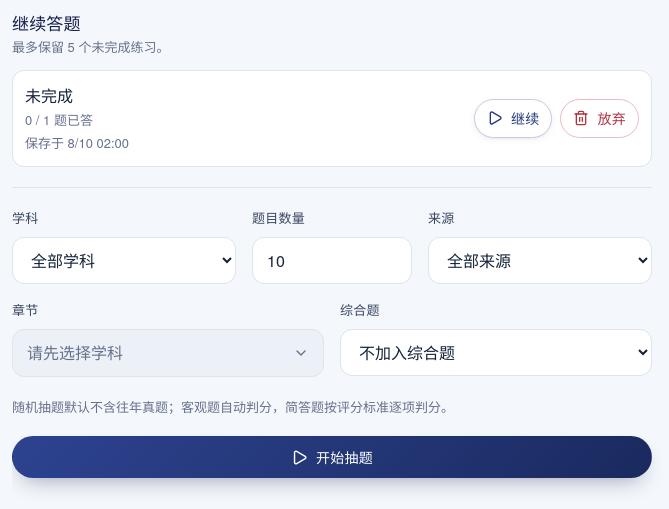
QuizStartPanel › refreshes active attempts when abandon returns 409
Click the button with class "danger-action". click: coordinates (600, 118)
box: [560, 99, 639, 138]
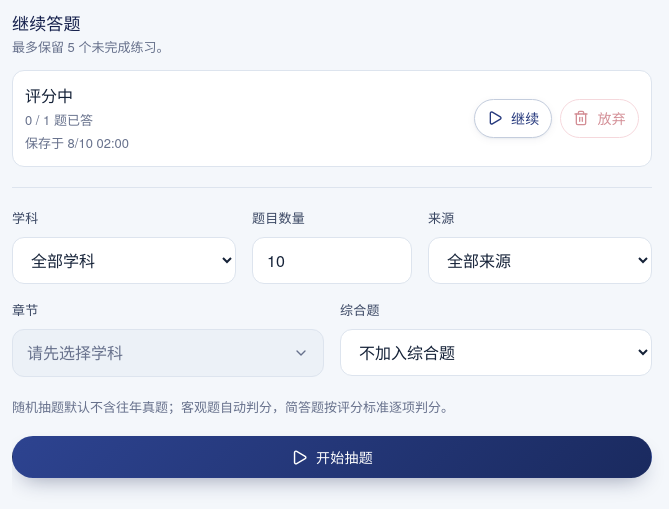
Now the list item with class "draft-item" shows "评分中", box [25, 84, 73, 107]
Now the button with class "danger-action" is disabled, box [560, 99, 639, 138]
